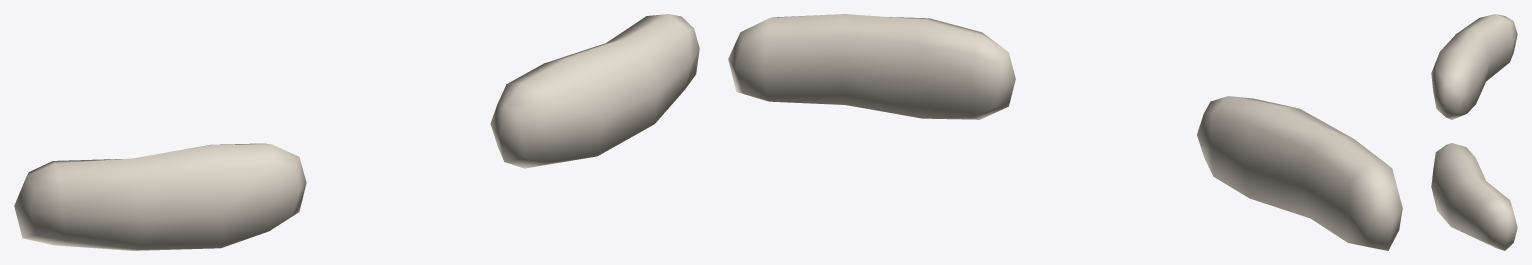
File: Eyebrows_01_07.fbx
3 renders of one model, left to right at view 1: azimuth 30°, elevation 25°; view 2: azimuth 150°, elevation 25°; view 3: azimuth 270°, elevation 25°, orthographic. The views are drawn at different scales.
Parts seen in each view (by area): view 1: Eyebrows_01_07; view 2: Eyebrows_01_07; view 3: Eyebrows_01_07.
Boxes of the visible parts, box(x1,y1,x2,y2) form: Eyebrows_01_07: box(14, 14, 699, 250); Eyebrows_01_07: box(728, 14, 1402, 250); Eyebrows_01_07: box(1431, 14, 1517, 250).
Bounding box in the file's own units: 18.54 × 2.63 × 3.34.
